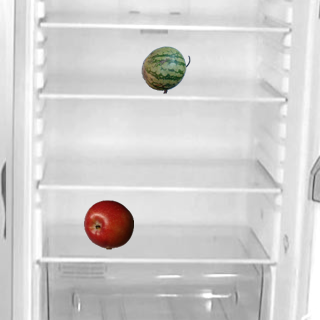Apple Braeburn: (83, 199, 133, 249)
Watermelon: (140, 44, 190, 94)
